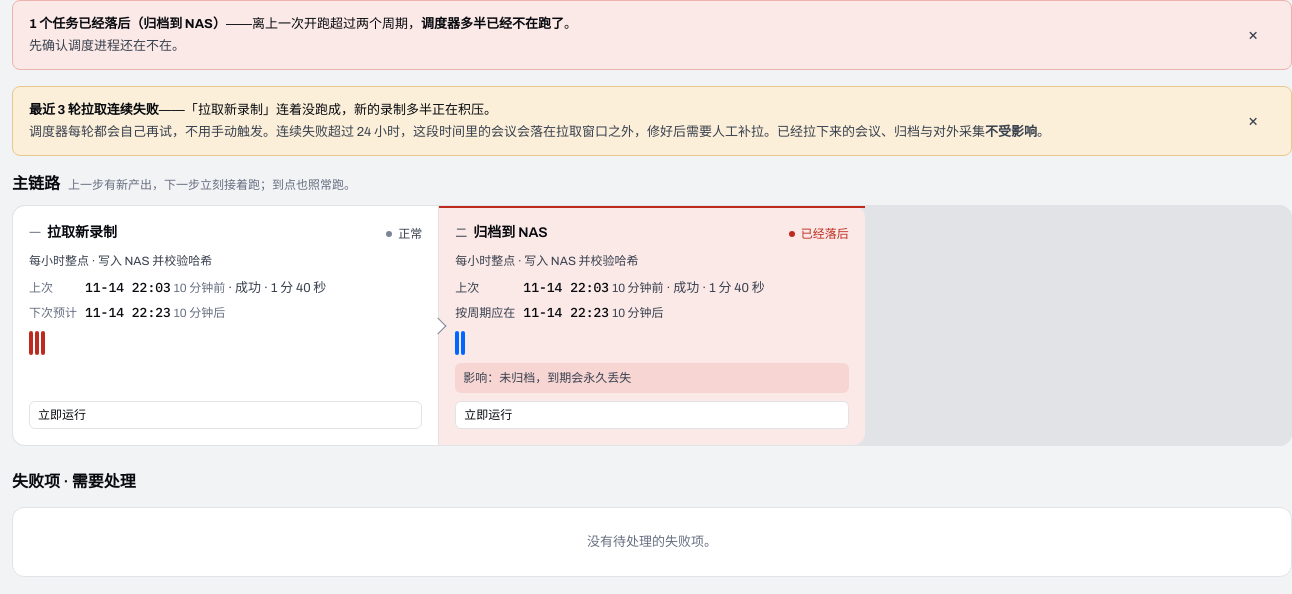
Test case: 「N 个任务已经落后」那条横幅关得掉，但只对这一批有效 › 两条横幅同时在时各关各的：关掉落后那条，连续失败那条还在
The image size is (1292, 594).
// 两条的可访问名相同（都是「关闭这条提醒」），所以按 testid 定位到各自那一颗
Click the button named "关闭这条提醒": (1253, 35) x1=1231 y1=13 x2=1275 y2=57
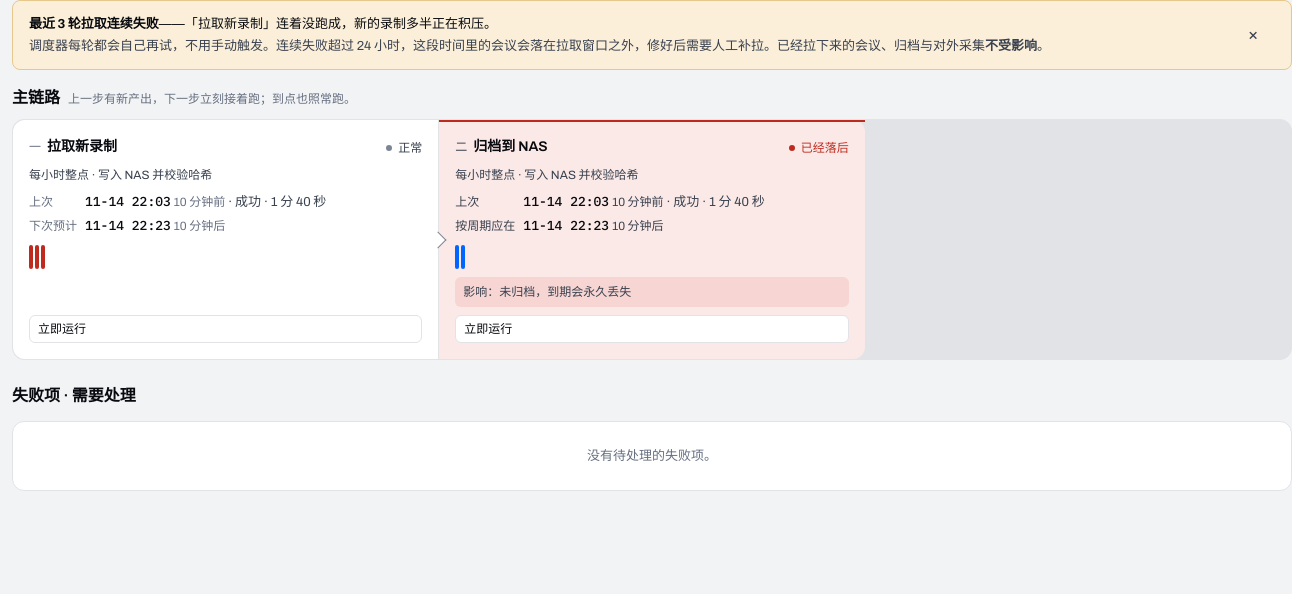
Expected: the message with test id "jobs-fetch-stalled" is shown, x1=12 y1=0 x2=1291 y2=70
Now the message with test id "jobs-overdue" is gone
